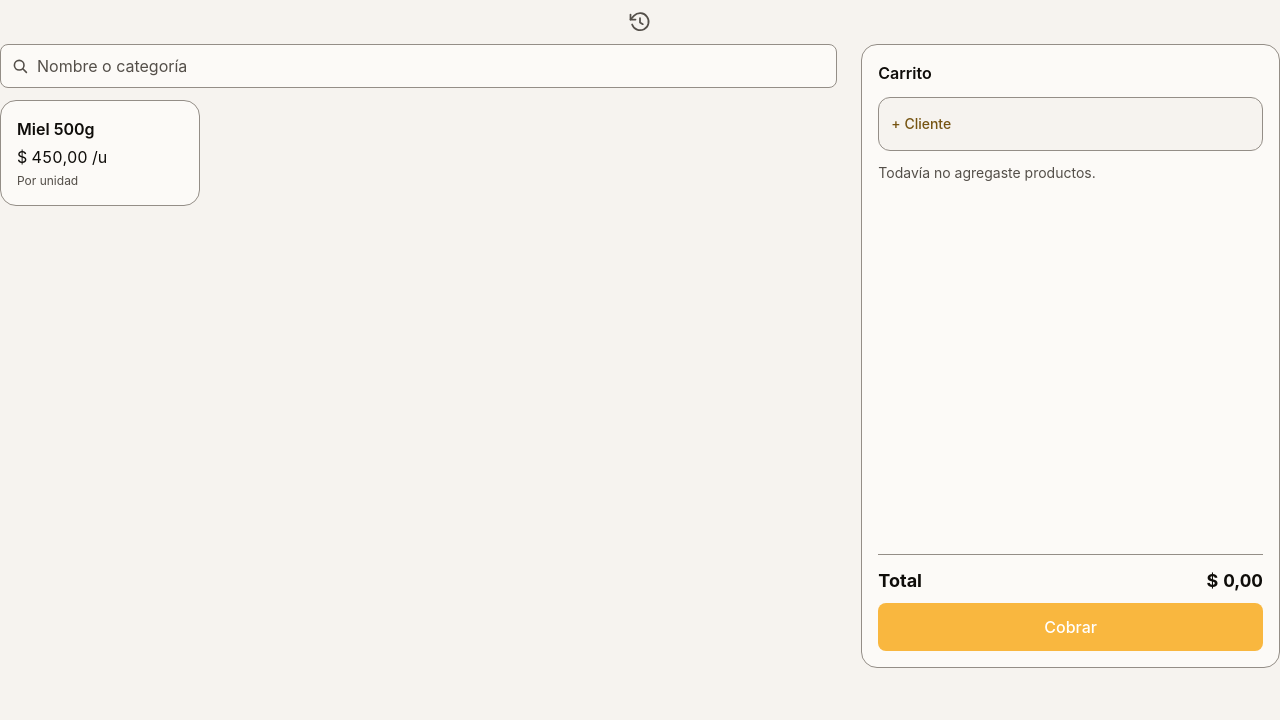
Scenario: Venta - agregar al carrito por modo › unidad_simple: el stepper agrega la cantidad elegida
This screenshot has width=1280, height=720.
Click the text "Miel 500g". click: click(56, 129)
box: top-left (17, 117), bottom-right (94, 141)
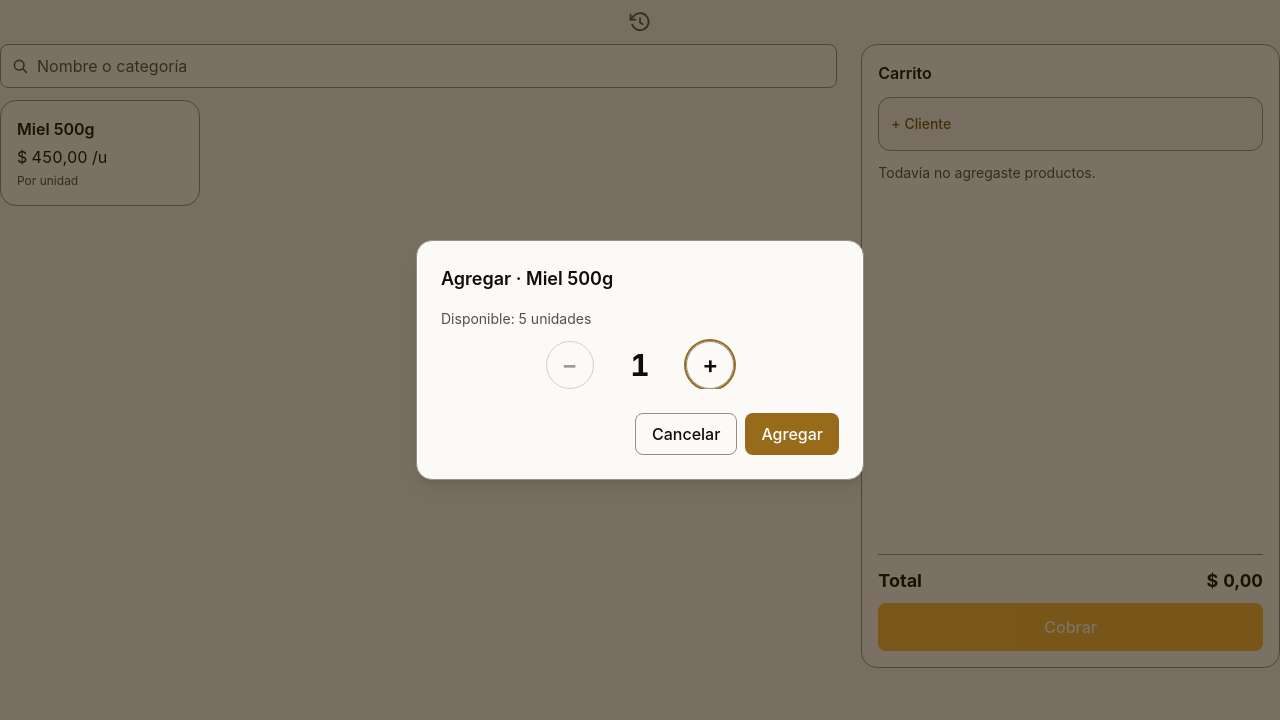
Click the button named "Agregar una unidad". click: click(710, 365)
box: top-left (686, 341), bottom-right (734, 389)
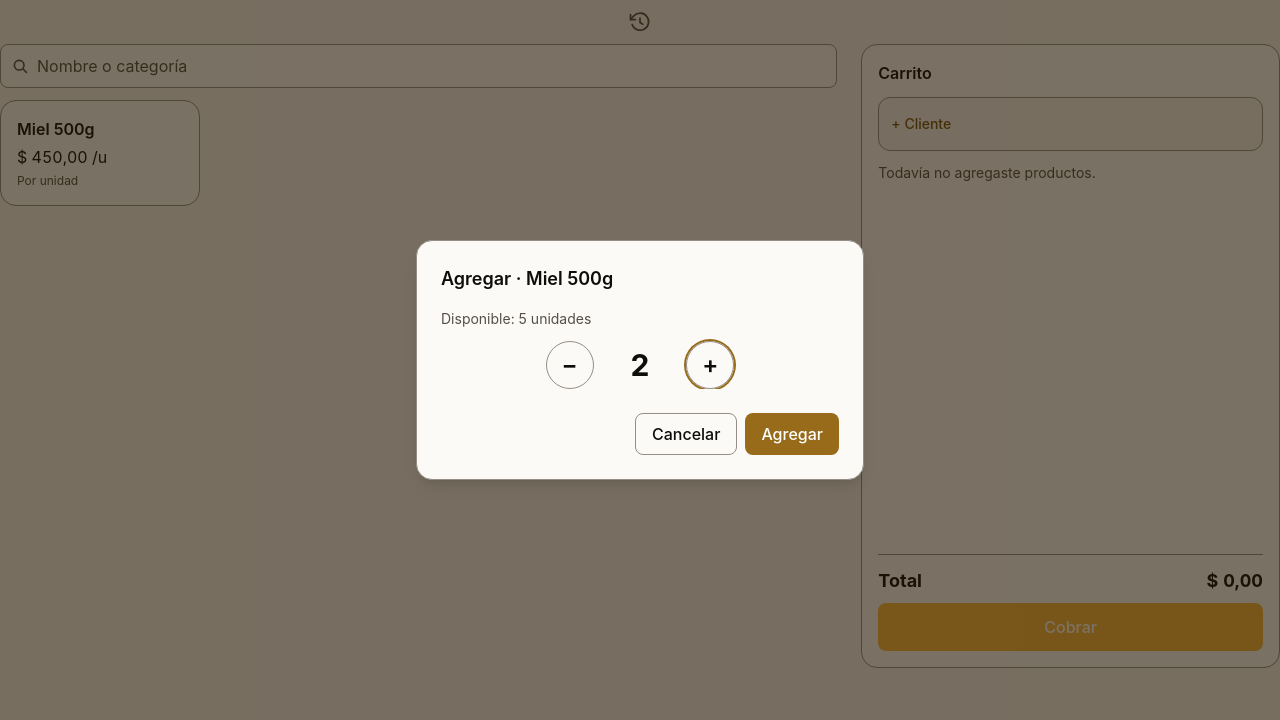
Click the button "Agregar". click: click(792, 434)
box: top-left (745, 413), bottom-right (839, 455)
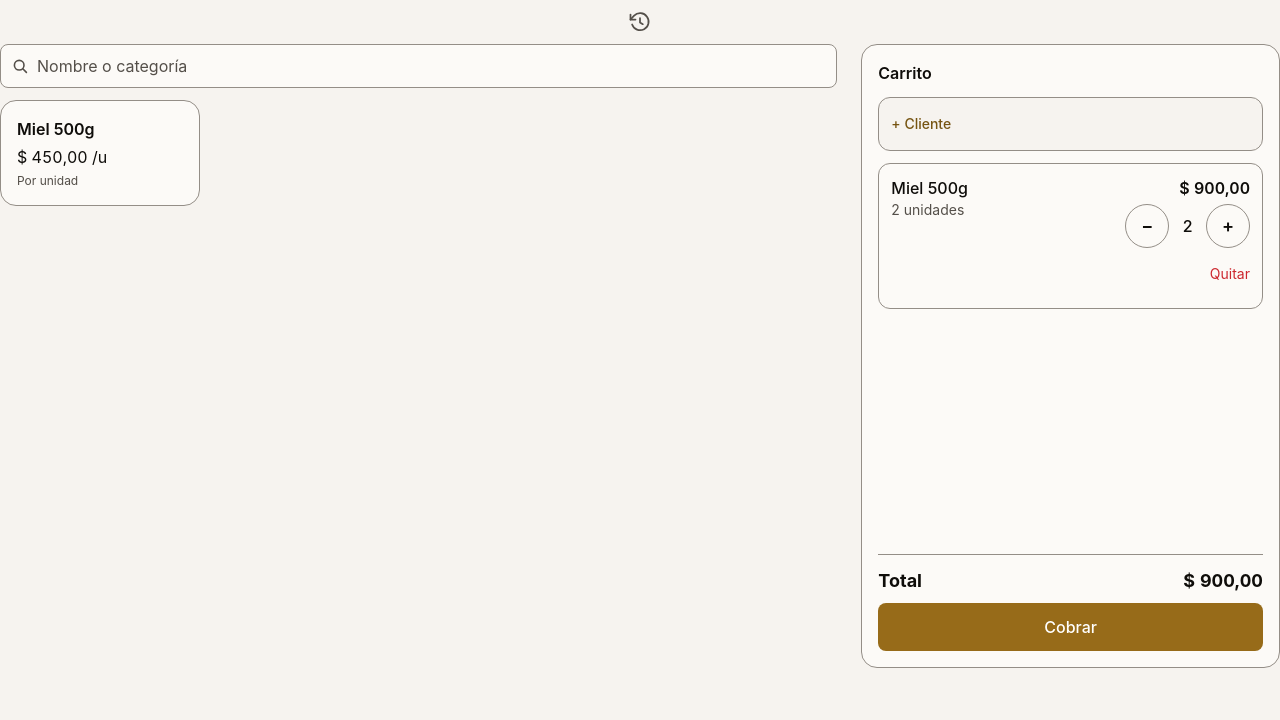
Check: the text "2 unidades" is shown, box top-left (891, 200), bottom-right (968, 220)
Check: the 1st text "$ 900,00" is shown, box top-left (1179, 176), bottom-right (1250, 200)
